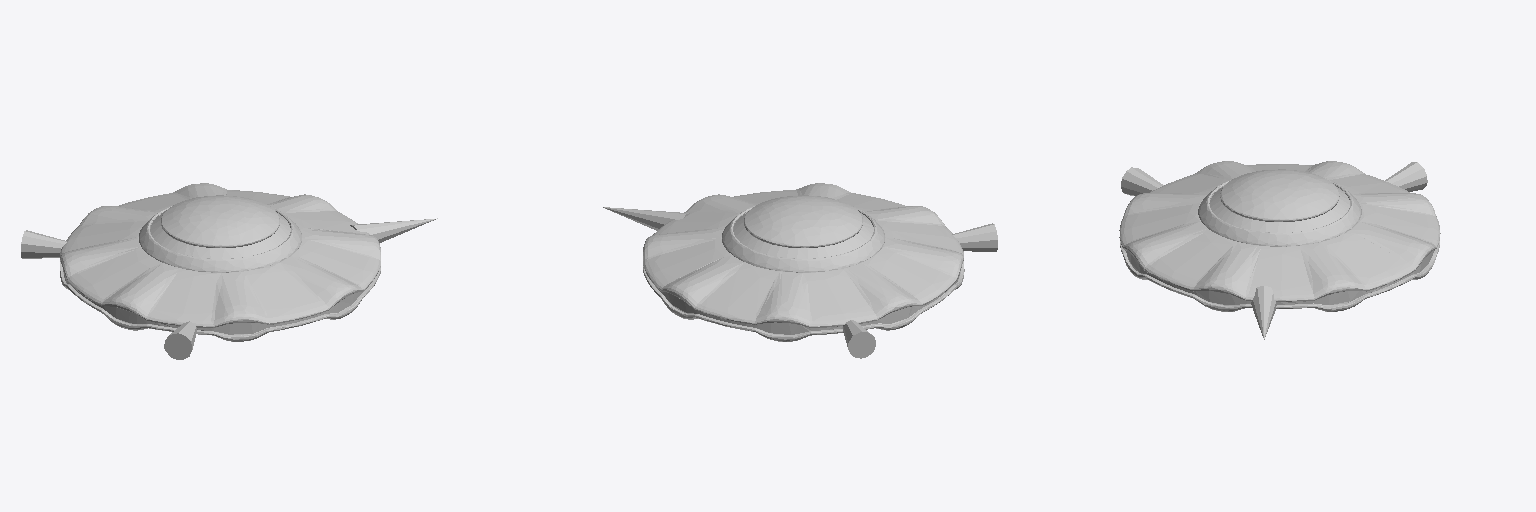
File: ufo.obj
3 views of the same model, side by side, from view 1: azimuth 30°, elevation 25°; view 2: azimuth 150°, elevation 25°; view 3: azimuth 270°, elevation 25° (orthographic).
Parts seen in each view (by area): view 1: ufo, Cone.002_Cone.003, Cone.001_Cone.002, Cone_Cone.001; view 2: ufo, Cone.001_Cone.002, Cone.002_Cone.003, Cone_Cone.001; view 3: ufo, Cone_Cone.001, Cone.002_Cone.003, Cone.001_Cone.002.
Part boxes in pixels (left/top/right/bottom): ufo: left=60, top=183, right=380, bottom=341; Cone.002_Cone.003: left=21, top=230, right=66, bottom=258; Cone.001_Cone.002: left=164, top=321, right=196, bottom=359; Cone_Cone.001: left=350, top=218, right=437, bottom=242; ufo: left=643, top=183, right=964, bottom=341; Cone.001_Cone.002: left=952, top=223, right=997, bottom=251; Cone.002_Cone.003: left=843, top=320, right=875, bottom=358; Cone_Cone.001: left=603, top=207, right=689, bottom=230; ufo: left=1119, top=161, right=1440, bottom=311; Cone_Cone.001: left=1251, top=286, right=1276, bottom=339; Cone.002_Cone.003: left=1385, top=162, right=1427, bottom=191; Cone.001_Cone.002: left=1121, top=167, right=1163, bottom=195.
Bounding box in the file's own units: 2.47 × 0.7558 × 1.96.